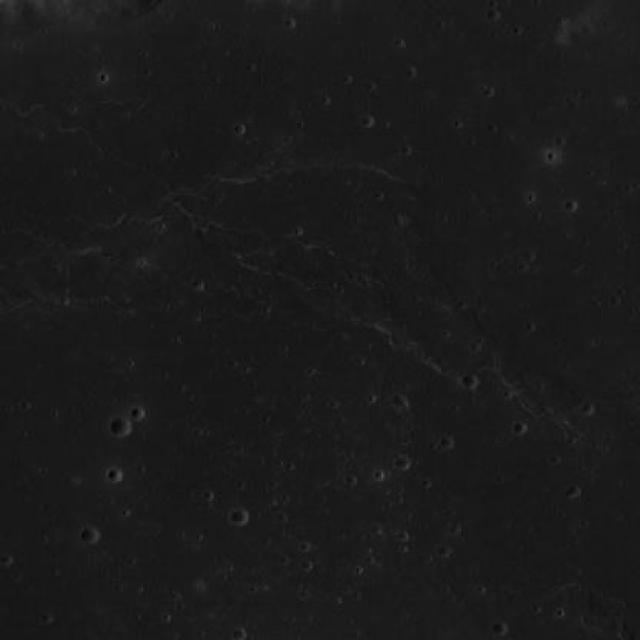crater: (108, 414, 132, 436), (229, 506, 248, 523), (80, 527, 98, 544), (390, 394, 408, 411), (394, 453, 411, 469)
